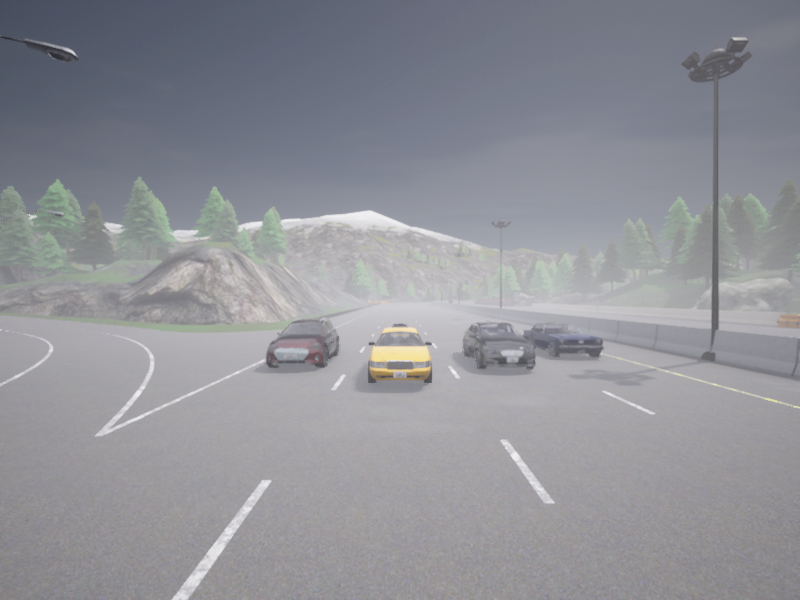vehicle: (368, 323, 431, 383), (266, 317, 339, 368), (462, 321, 535, 369), (522, 322, 603, 357), (448, 299, 452, 302)
